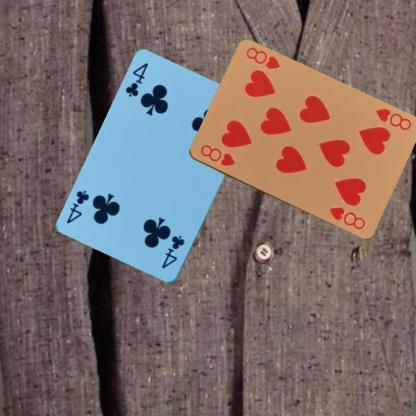4c: (122, 60, 150, 99), (159, 233, 186, 270)
8h: (372, 106, 413, 132), (198, 142, 236, 168)
